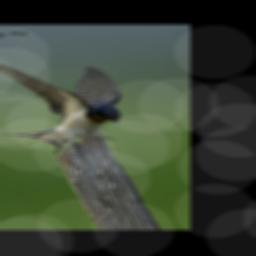Swallow: (0, 59, 122, 153)
